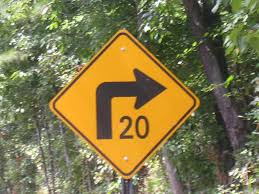right: (46, 27, 203, 182)
